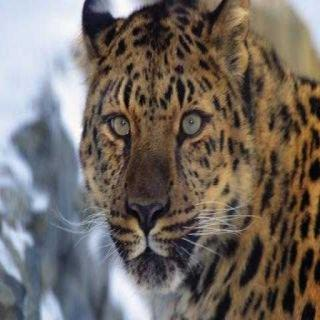Leopard: (66, 0, 320, 319)
